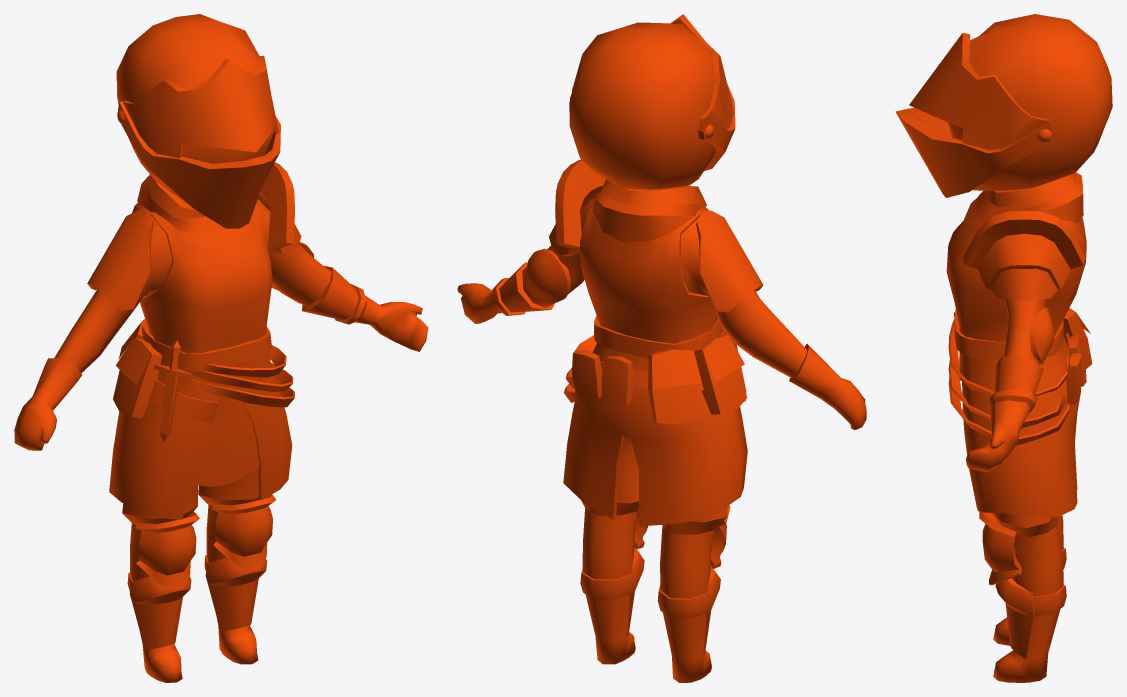
The model's file is Knight.FBX.
3 renders of one model, left to right at view 1: azimuth 30°, elevation 25°; view 2: azimuth 150°, elevation 25°; view 3: azimuth 270°, elevation 25°, orthographic.
Visible parts, largest first — view 1: Test_Knight; view 2: Test_Knight; view 3: Test_Knight.
Part boxes in pixels (x1,y1,x2,y2): Test_Knight: (14,14,428,682); Test_Knight: (457,14,866,682); Test_Knight: (895,14,1112,682).
Size of the model in its own units: 81.01 by 121 by 37.61.
